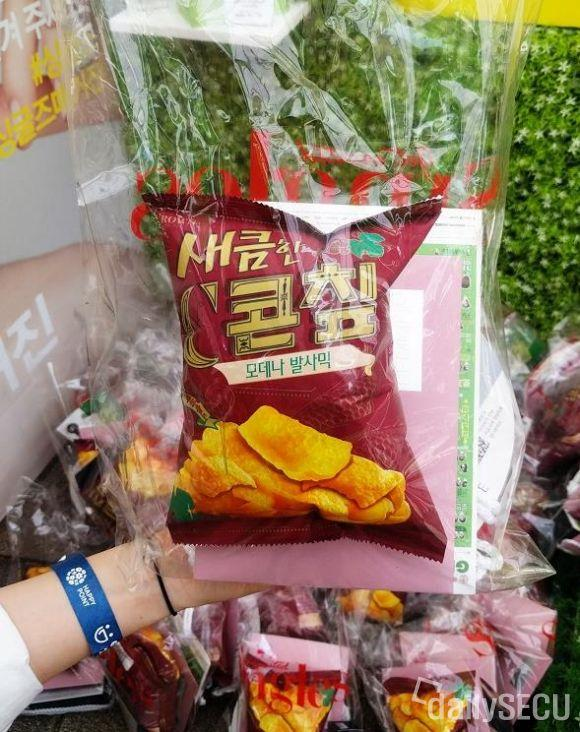snack: (140, 187, 448, 566)
